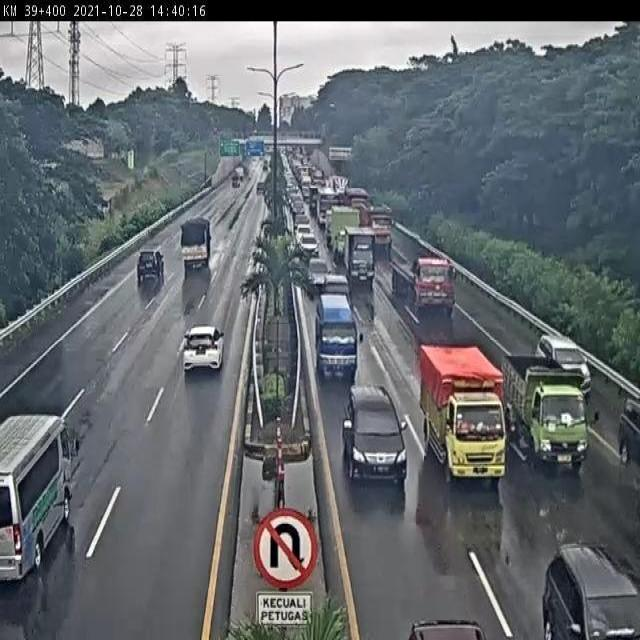Bus: (0, 411, 85, 589), (342, 220, 379, 286)
Car: (532, 536, 640, 640), (342, 386, 412, 493), (536, 334, 599, 408), (175, 315, 232, 382), (130, 238, 169, 298), (615, 384, 640, 476), (322, 254, 351, 297), (306, 262, 329, 298), (300, 235, 320, 263)
Truck: (417, 332, 516, 491), (502, 338, 592, 471), (398, 241, 460, 315), (173, 204, 220, 281), (366, 201, 405, 263)
Van: (310, 284, 365, 390)
